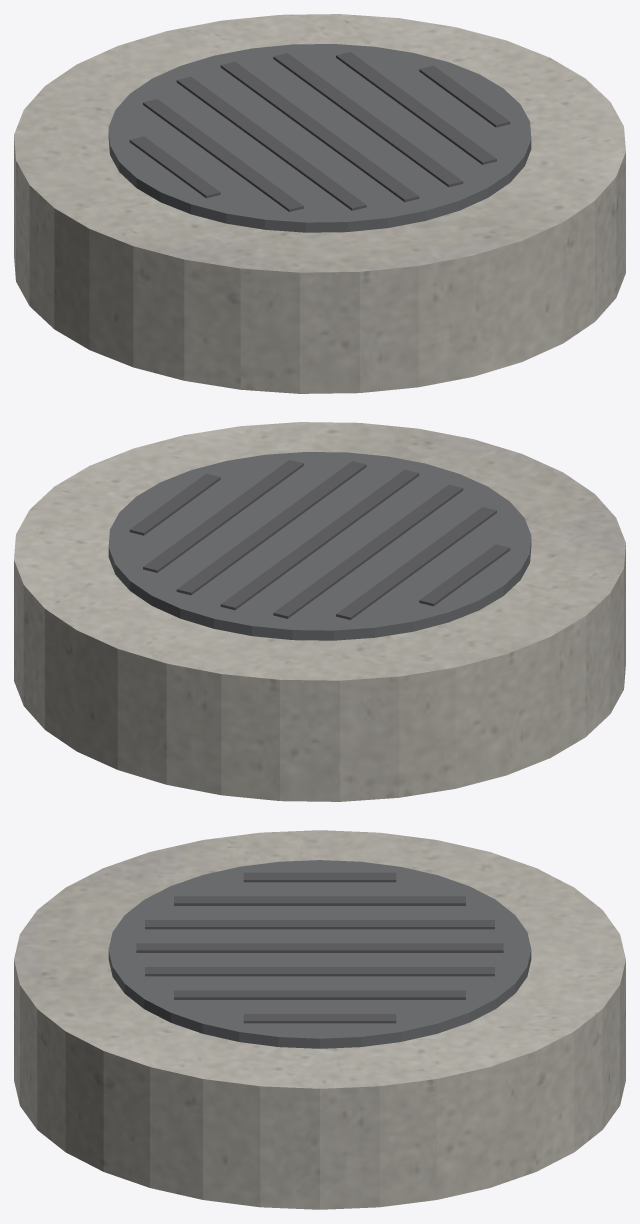
The model's file is manhole.glb.
3 views of the same model, one above another, from view 1: azimuth 30°, elevation 25°; view 2: azimuth 150°, elevation 25°; view 3: azimuth 270°, elevation 25° (orthographic).
Parts seen in each view (by area): view 1: manhole_concrete, manhole_iron, manhole_dark; view 2: manhole_concrete, manhole_iron, manhole_dark; view 3: manhole_concrete, manhole_iron, manhole_dark.
Boxes of the visible parts, bbox=[...] form: manhole_concrete: bbox=[14, 14, 625, 393]; manhole_iron: bbox=[108, 44, 531, 232]; manhole_dark: bbox=[129, 52, 510, 211]; manhole_concrete: bbox=[14, 422, 625, 801]; manhole_iron: bbox=[108, 452, 531, 640]; manhole_dark: bbox=[129, 460, 510, 619]; manhole_concrete: bbox=[14, 830, 625, 1209]; manhole_iron: bbox=[108, 860, 531, 1048]; manhole_dark: bbox=[136, 872, 503, 1023].
Bounding box in the file's own units: 1.1 × 0.265 × 1.1.
3 materials, 1 textured.
